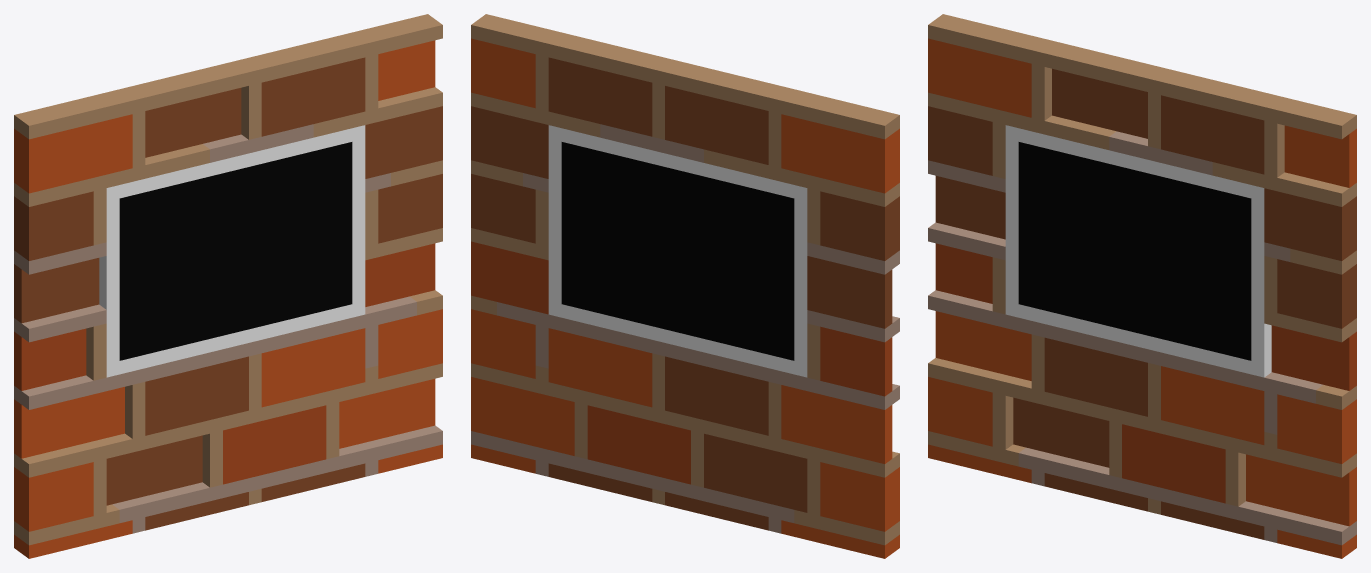
The model's file is Brick_Wall_Window.obj.
3 views of the same model, side by side, from view 1: azimuth 30°, elevation 25°; view 2: azimuth 150°, elevation 25°; view 3: azimuth 330°, elevation 25° (orthographic).
Bounding box in the file's own units: 3.2 × 3.2 × 0.2.
1 material, 1 textured.
